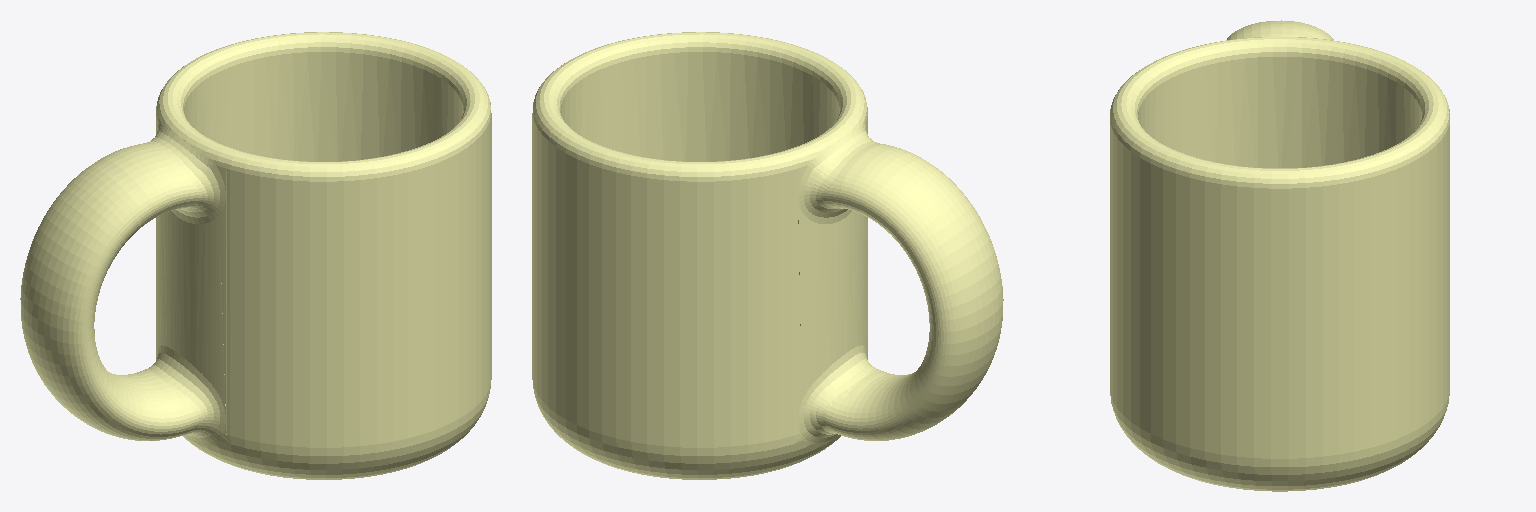
The robot description file, URDF, robot "cup_ceramic":
<robot
  name="cup_ceramic">
  <link
    name="cup_ceramic">
    <inertial>
      <origin
        xyz="-0.015136 -1.77009999693499E-09 0.050057"
        rpy="0 0 0" />
      <mass
        value="0.59971" />
      <inertia
        ixx="0.00161232368860069"
        ixy="-8.25301210360797E-10"
        ixz="-9.03614011707511E-05"
        iyy="0.0023207843092717"
        iyz="7.45868265789437E-10"
        izz="0.0021061706621893" />
    </inertial>
    <visual>
      <origin
        xyz="0 0 0"
        rpy="0 0 0" />
      <geometry>
        <mesh
          filename="package://cup_ceramic/meshes/cup_ceramic.dae" />
      </geometry>
      <material
        name="">
        <color
          rgba="1 1 0.75294 0.6" />
      </material>
    </visual>
    <collision>
      <origin
        xyz="0 0 0"
        rpy="0 0 0" />
      <geometry>
        <mesh
          filename="package://cup_ceramic/meshes/cup_ceramic.dae" />
      </geometry>
    </collision>
  </link>
</robot>

--- What the picture shows (computed from the rendered views, not written in the file) ---
3 views of the same robot in one strip: view 1: azimuth 30°, elevation 25°; view 2: azimuth 150°, elevation 25°; view 3: azimuth 270°, elevation 25° (orthographic).
Robot: cup_ceramic — 1 links, 0 joints (none); root link cup_ceramic; default pose: all joints at 0.
Visible links, largest first — view 1: cup_ceramic; view 2: cup_ceramic; view 3: cup_ceramic.
Boxes of the visible links, <box> form: cup_ceramic: <box>20,32,491,479</box>; cup_ceramic: <box>532,32,1003,479</box>; cup_ceramic: <box>1110,20,1449,491</box>.
Bounding box of the posed robot: 0.1799 × 0.12 × 0.1299 m (x, y, z).
1 mesh visuals loaded from 1 distinct referenced files (1 Collada DAE).